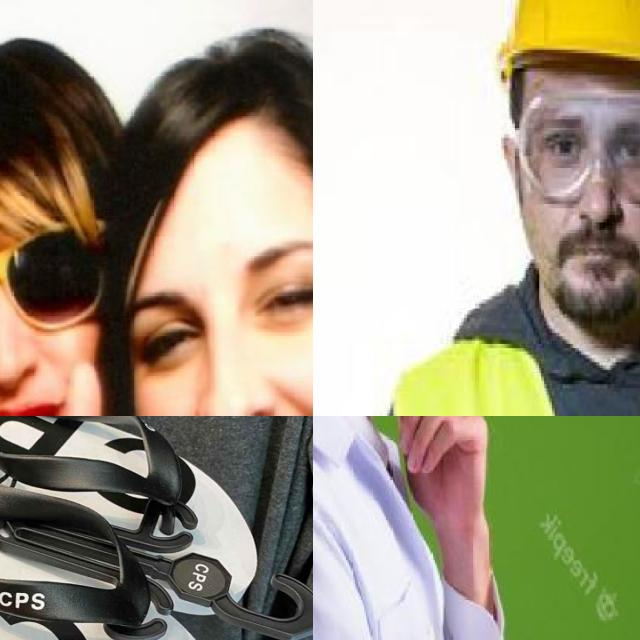No_Glasses: (123, 267, 313, 366)
Sandals: (0, 416, 296, 640)
face_nomask: (128, 256, 313, 416), (0, 243, 111, 416), (528, 121, 640, 277)
glasses: (517, 82, 640, 200), (0, 226, 107, 357)
hand_noglove: (383, 416, 497, 513)
head_helmet: (497, 0, 640, 87)
head_nohelmet: (131, 17, 313, 218), (0, 40, 106, 247)
person: (330, 0, 640, 416), (313, 416, 519, 640)
